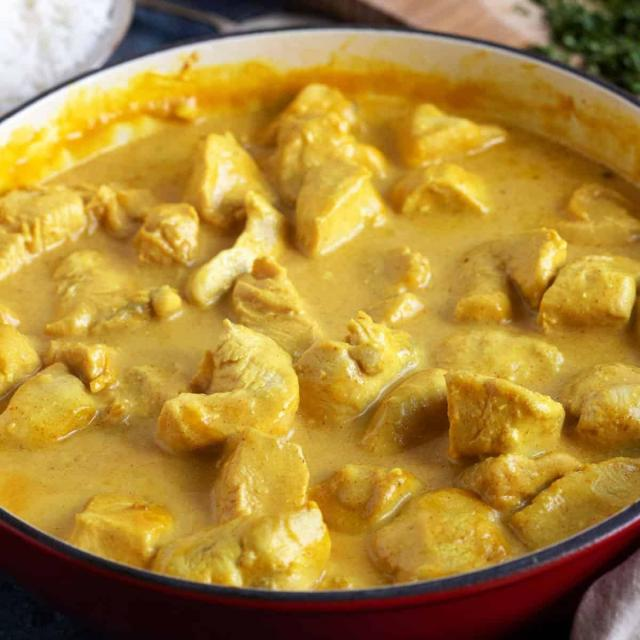chicken: (5, 52, 640, 640)
